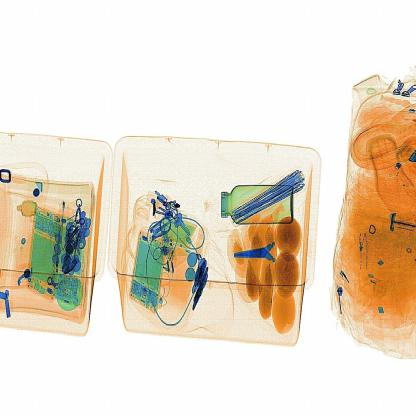gun: (222, 230, 300, 278)
